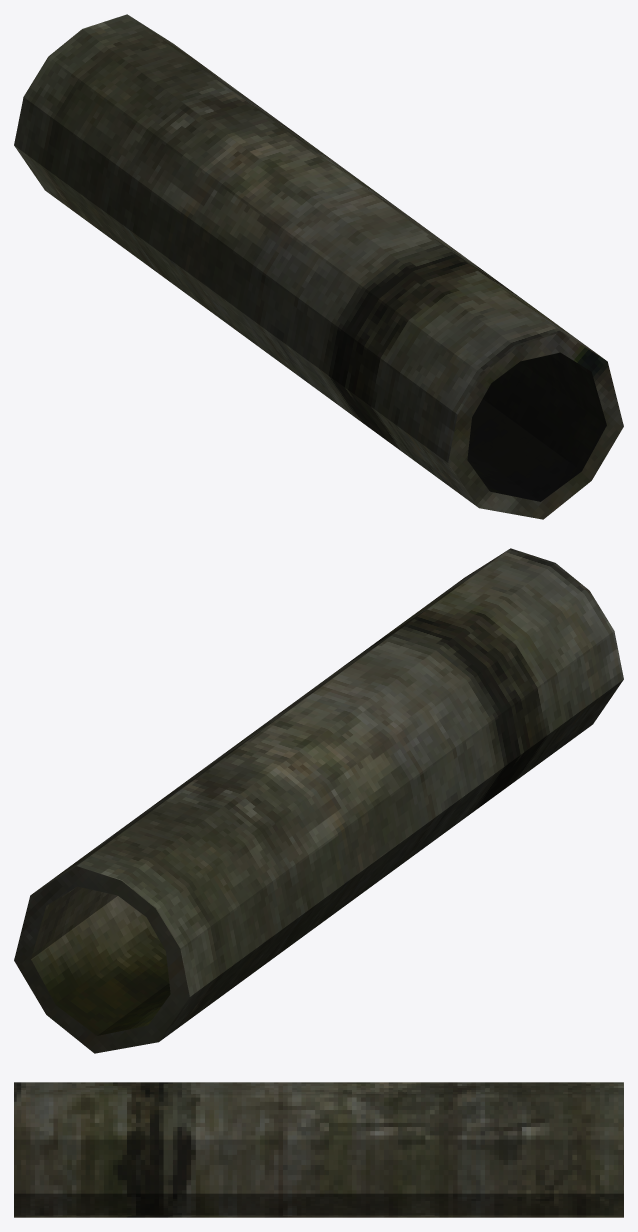
The model's file is sewer fix.fbx.
3 renders of one model, top to bottom at view 1: azimuth 30°, elevation 25°; view 2: azimuth 150°, elevation 25°; view 3: azimuth 270°, elevation 25°, orthographic. The views are drawn at different scales.
Parts seen in each view (by area): view 1: pCube12; view 2: pCube12; view 3: pCube12.
Part boxes in pixels (x1=…): pCube12: x1=14, y1=14, x2=623, y2=519; pCube12: x1=14, y1=548, x2=623, y2=1053; pCube12: x1=14, y1=1082, x2=623, y2=1217.
Size of the model in its own units: 188 by 188 by 805.
Materials: 1 (1 with a texture image).
